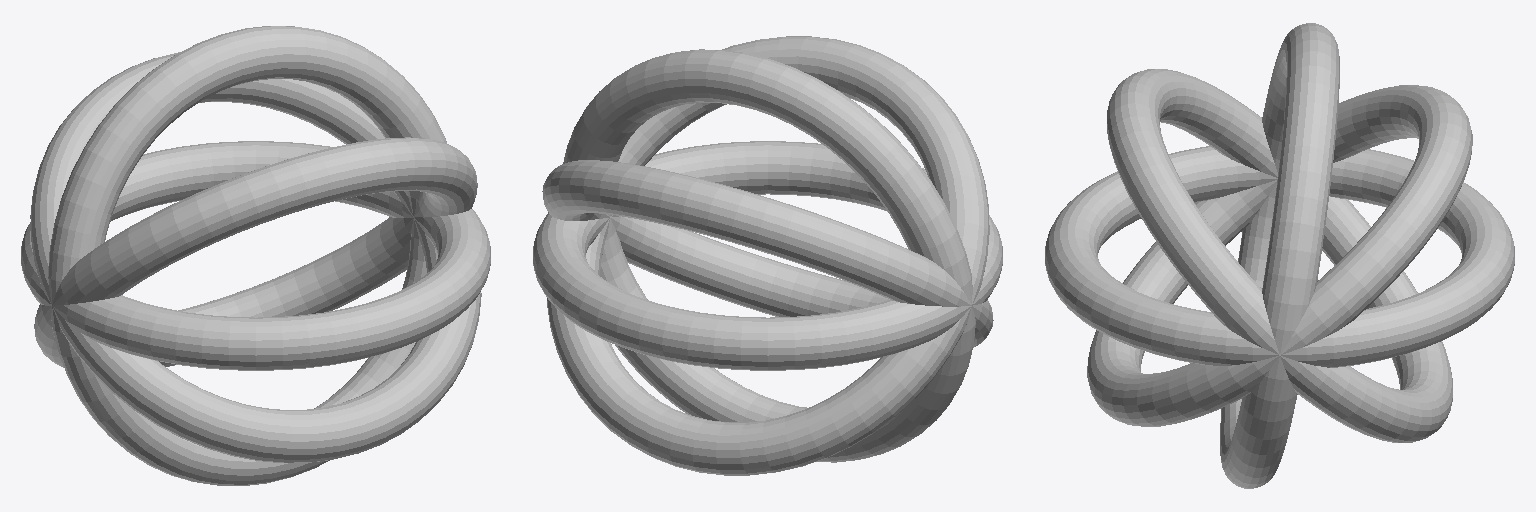
Rendered from anti_gravity_ring.obj.
The picture shows the model from 3 angles: view 1: azimuth 30°, elevation 25°; view 2: azimuth 150°, elevation 25°; view 3: azimuth 270°, elevation 25°; orthographic projection.
Visible parts, largest first — view 1: Torus; view 2: Torus; view 3: Torus.
Part boxes in pixels (left/top/right/bottom): Torus: left=21, top=26, right=490, bottom=485; Torus: left=533, top=36, right=1002, bottom=475; Torus: left=1045, top=23, right=1514, bottom=488.
Bounding box in the file's own units: 2.76 × 2.72 × 2.76.